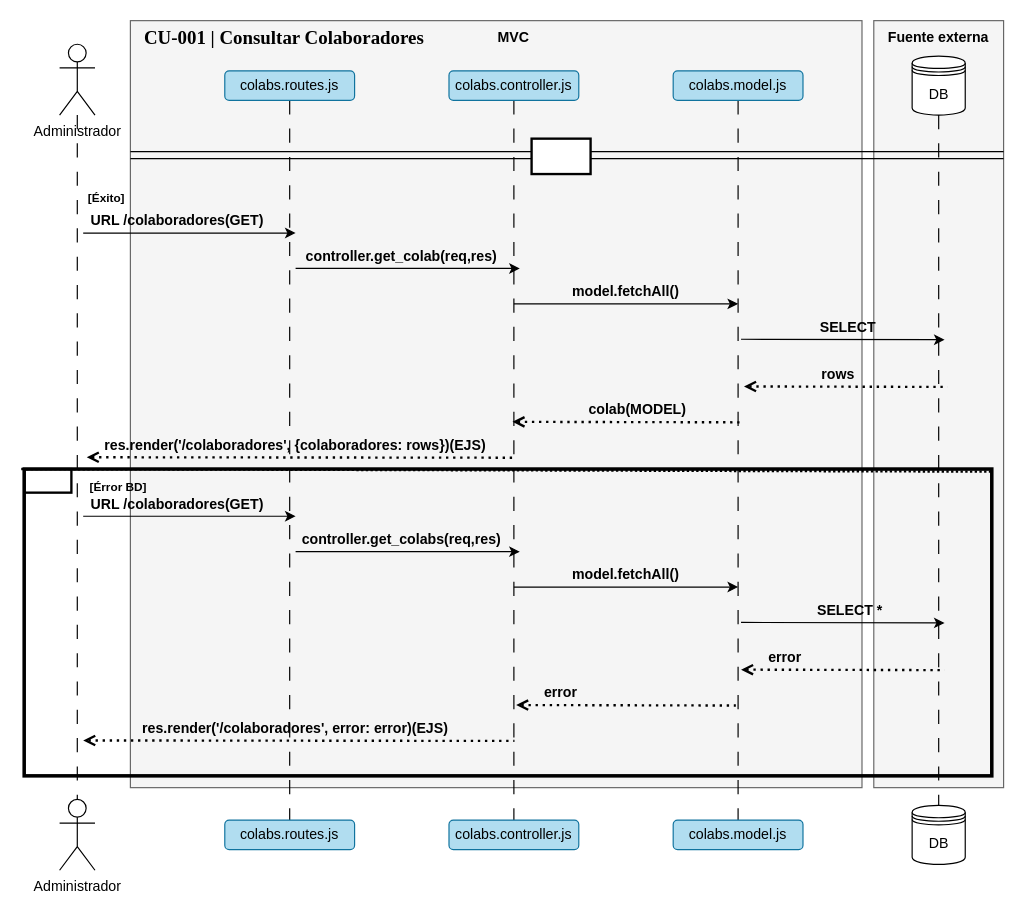
Some shapes in this 1024 by 916 pixel diagram are drawn without their labels. The shapes that lost their labels are listed below. From the top down, each one's centre as x and y in pixels, then its label:
At [560,156]: "GET".
At [47,480]: "ALT".
